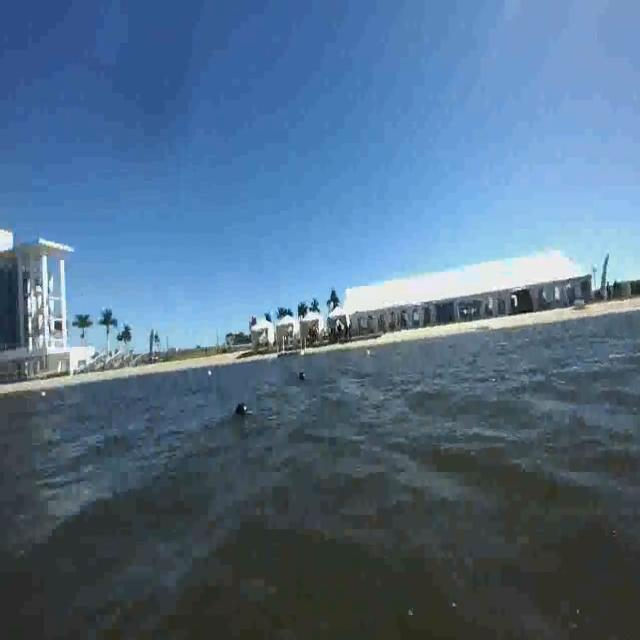black-buoy: (235, 398, 249, 419), (296, 369, 306, 379)
